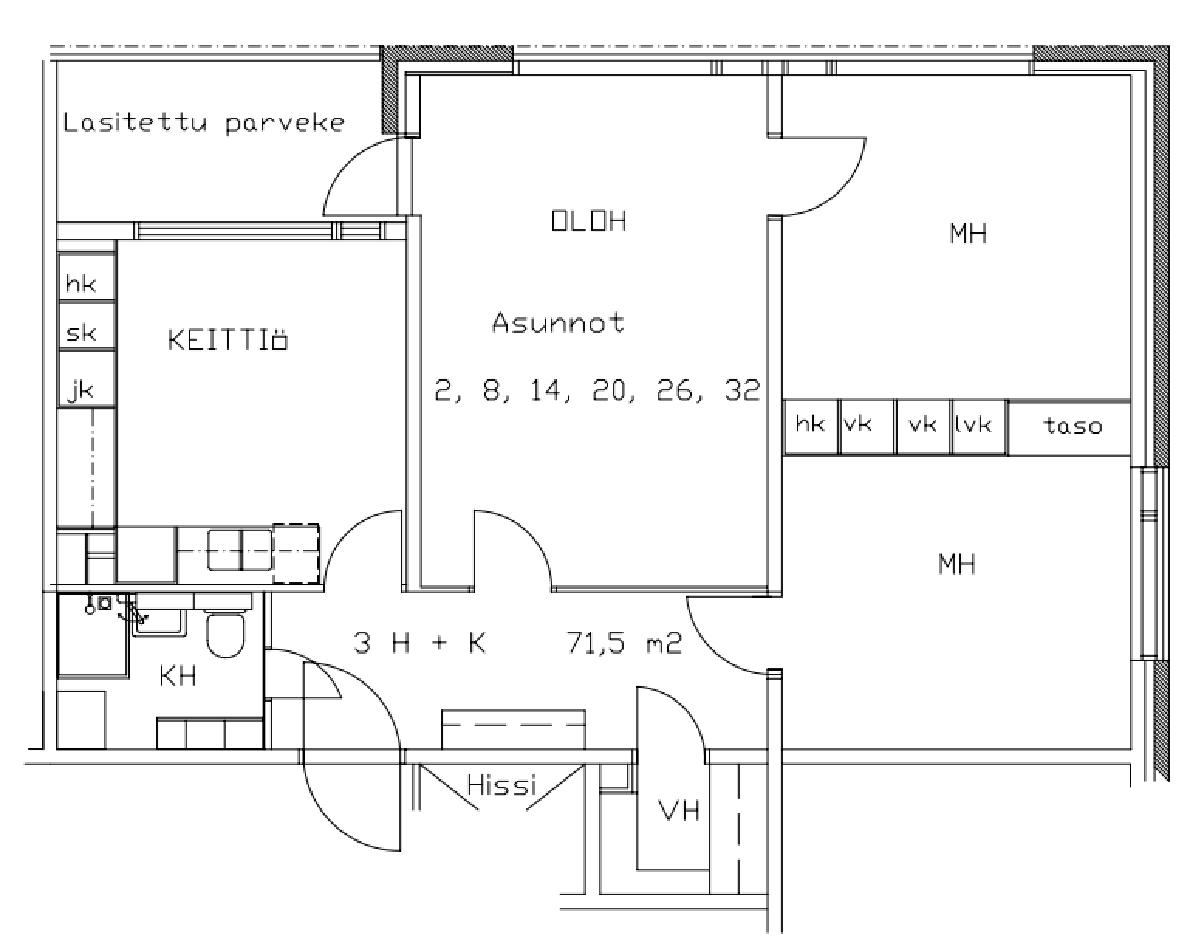door: (295, 661, 408, 851), (469, 503, 561, 609), (759, 140, 879, 220), (683, 594, 784, 683), (317, 506, 409, 603), (308, 137, 414, 211), (624, 678, 713, 759), (258, 645, 342, 709)
window: (520, 47, 1031, 75), (1128, 464, 1173, 664), (127, 223, 381, 244)
zone: (411, 72, 764, 588), (56, 248, 402, 595), (789, 72, 1131, 401), (780, 460, 1131, 747), (273, 593, 762, 751), (54, 56, 398, 214), (397, 764, 770, 909), (51, 596, 266, 747), (1008, 400, 1123, 453), (784, 399, 841, 459), (59, 347, 112, 405), (60, 251, 117, 300), (845, 398, 896, 450), (956, 401, 1002, 457), (900, 398, 946, 450), (59, 301, 113, 342)
